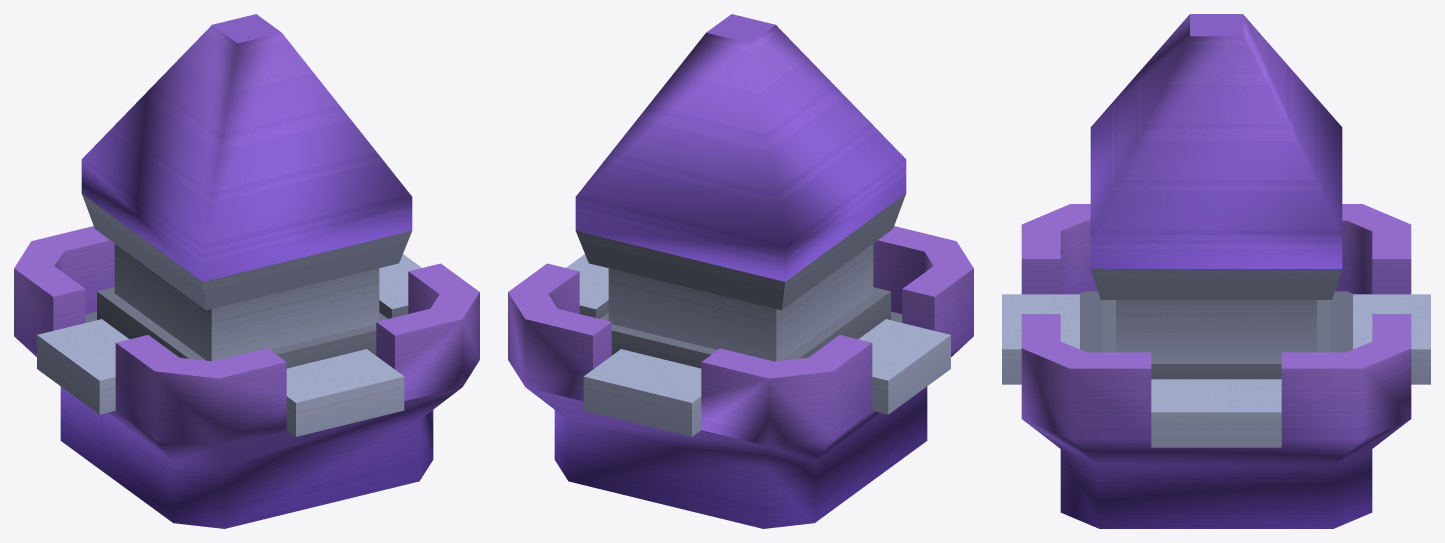
File: tower-square-roof-b.glb
The picture shows the model from 3 angles, left to right: view 1: azimuth 30°, elevation 25°; view 2: azimuth 150°, elevation 25°; view 3: azimuth 270°, elevation 25°; orthographic projection. The views are drawn at different scales.
Visible parts, largest first — view 1: tower-square-roof-b; view 2: tower-square-roof-b; view 3: tower-square-roof-b.
Boxes of the visible parts, x1,y1,x2,y2 form: tower-square-roof-b: (14,14,479,528); tower-square-roof-b: (508,14,973,528); tower-square-roof-b: (1002,14,1430,528).
Bounding box in the file's own units: 1.1 × 1.24 × 1.1.
Materials: 1 (1 with a texture image).
